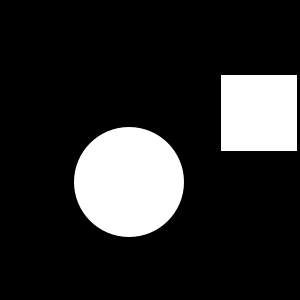circle: (221, 75, 297, 151)
rectangle: (74, 127, 184, 237)
